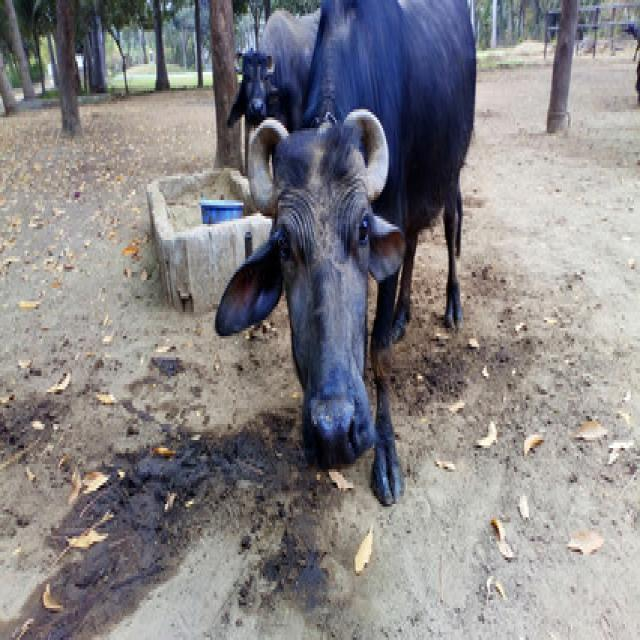Buffalo: (214, 0, 480, 504)
